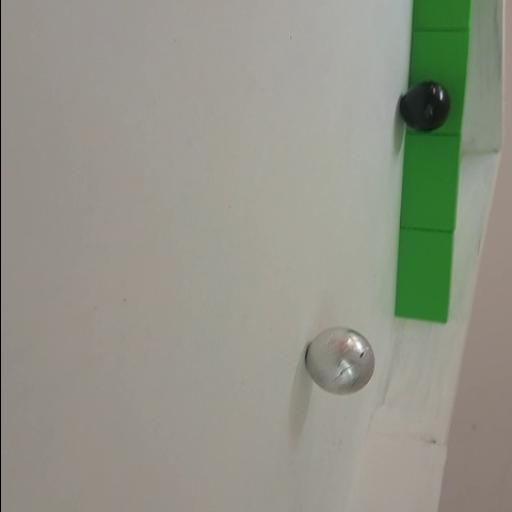alive: (305, 326, 374, 394)
dead: (400, 82, 450, 132)
